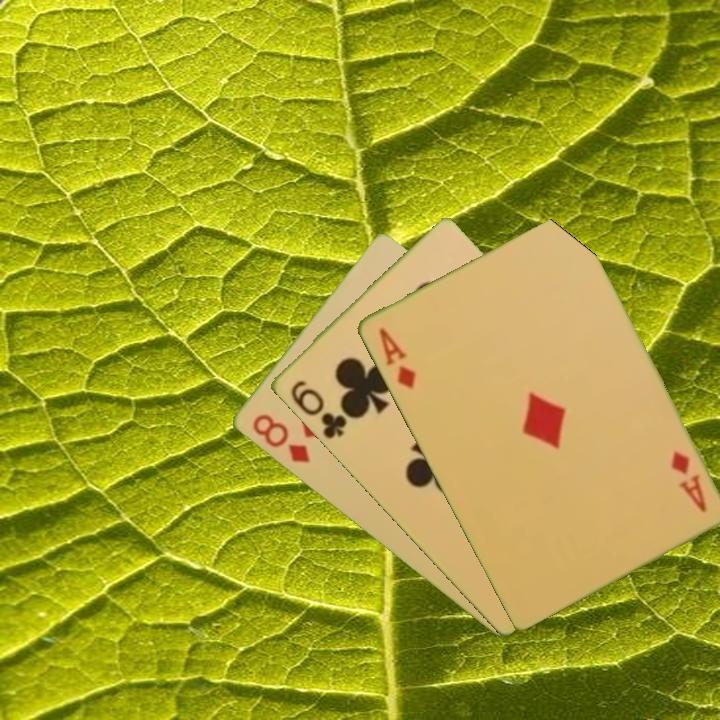6c: (286, 376, 349, 443)
8d: (248, 410, 313, 466)
Ad: (375, 324, 419, 392), (667, 446, 709, 515)
